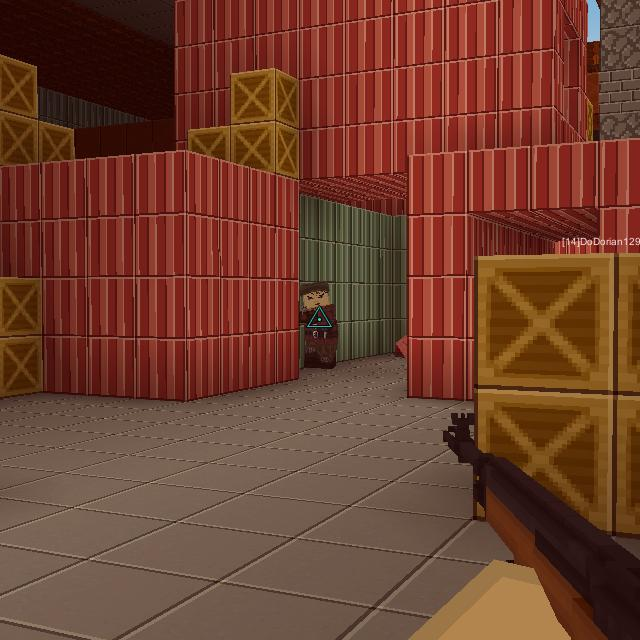enemy: (299, 278, 340, 371)
